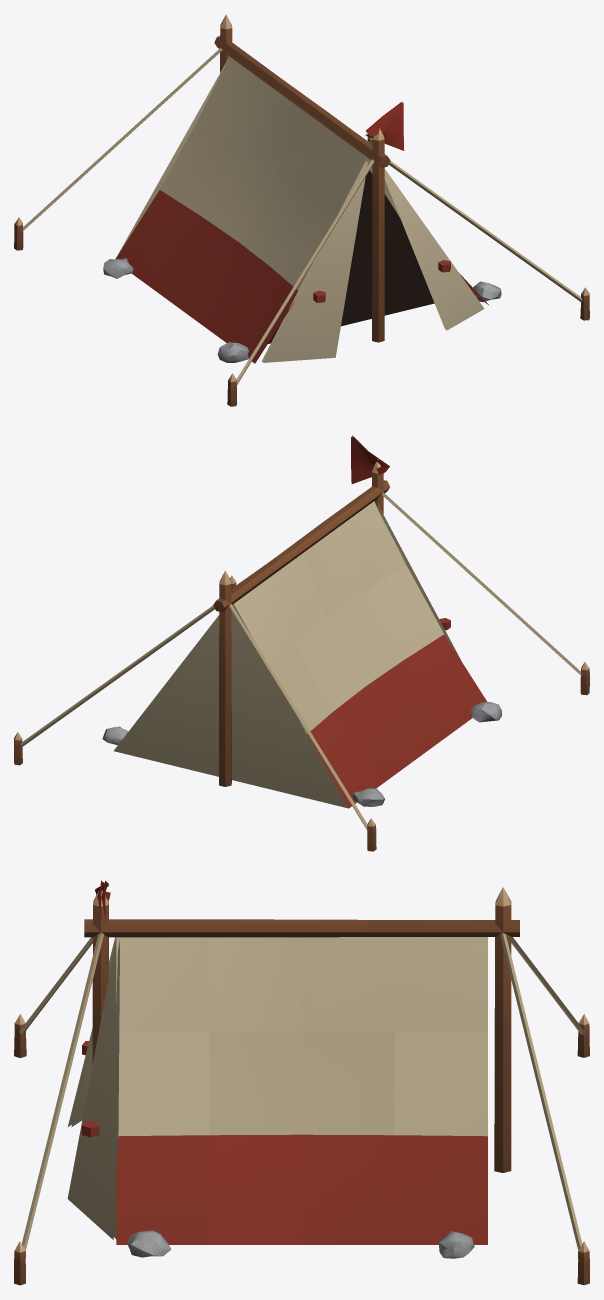
Rendered from muster_tent_small.glb.
The picture shows the model from 3 angles, top to bottom: view 1: azimuth 30°, elevation 25°; view 2: azimuth 150°, elevation 25°; view 3: azimuth 270°, elevation 25°; orthographic projection. The views are drawn at different scales.
Parts seen in each view (by area): view 1: MusterTentSmallBody; view 2: MusterTentSmallBody; view 3: MusterTentSmallBody.
Part boxes in pixels (x1=…): MusterTentSmallBody: x1=14, y1=14, x2=589, y2=406; MusterTentSmallBody: x1=14, y1=435, x2=589, y2=851; MusterTentSmallBody: x1=14, y1=880, x2=589, y2=1285.
Bounding box in the file's own units: 4.3 × 2.62 × 4.5.
